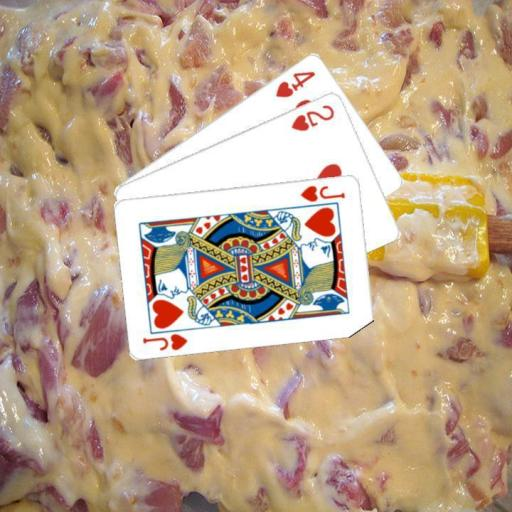card-corner: (288, 101, 336, 132), (272, 67, 318, 99), (298, 181, 346, 203), (140, 330, 189, 351)
